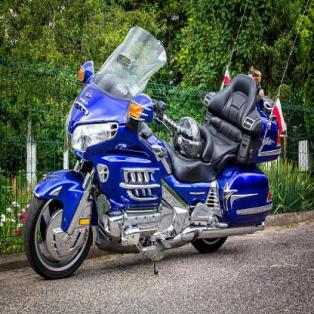Motocicleta: (22, 25, 285, 286)
